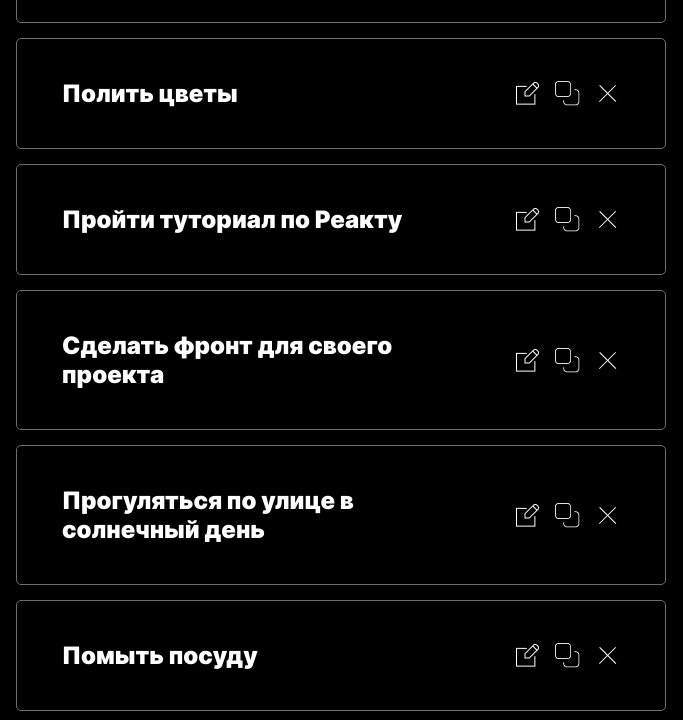
Scenario: начинает редактирование по клику на текст задачи
(page scrolled)
Click the text "Сделать фронт для своего проекта". click: (227, 360)
box: [62,331,392,389]
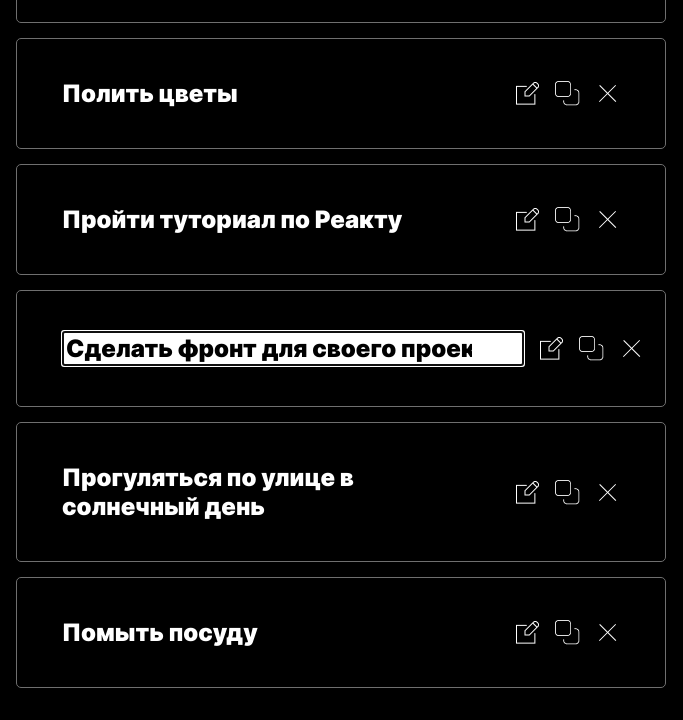
Check: the field is shown, box [62,331,524,366]
